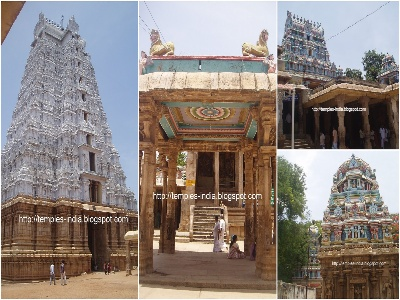gopura: (9, 17, 130, 211), (278, 13, 341, 82)
mandapa: (139, 71, 279, 243), (306, 85, 395, 147)
